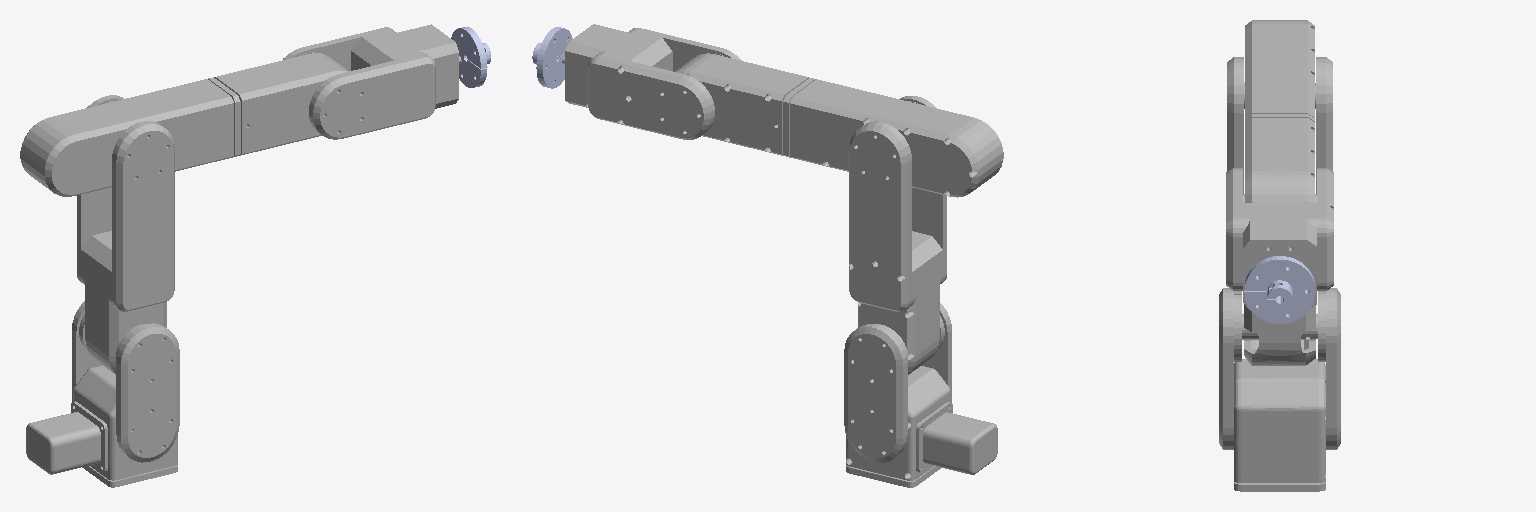
URDF robot description (thesis_arm):
<?xml version="1.0" encoding="utf-8"?>
<!-- This URDF was automatically created by SolidWorks to URDF Exporter! Originally created by [author] ([email redacted]) 
     Commit Version: 1.6.0-1-g15f4949  Build Version: 1.6.7594.29634
     For more information, please see http://wiki.ros.org/sw_urdf_exporter -->
<robot
  name="thesis_arm">
  <link
    name="Link_1">
    <visual>
      <origin
        xyz="0 0 0"
        rpy="0 0 0" />
      <geometry>
        <mesh
          filename="package://thesis_arm/meshes/Link_1.STL" />
      </geometry>
      <material
        name="">
        <color
          rgba="0.75294 0.75294 0.75294 1" />
      </material>
    </visual>
    <collision>
      <origin
        xyz="0 0 0"
        rpy="0 0 0" />
      <geometry>
        <mesh
          filename="package://thesis_arm/meshes/Link_1.STL" />
      </geometry>
    </collision>
  </link>
  <link
    name="Link_2">
    <visual>
      <origin
        xyz="0 0 0"
        rpy="0 0 0" />
      <geometry>
        <mesh
          filename="package://thesis_arm/meshes/Link_2.STL" />
      </geometry>
      <material
        name="">
        <color
          rgba="0.75294 0.75294 0.75294 1" />
      </material>
    </visual>
    <collision>
      <origin
        xyz="0 0 0"
        rpy="0 0 0" />
      <geometry>
        <mesh
          filename="package://thesis_arm/meshes/Link_2.STL" />
      </geometry>
    </collision>
  </link>
  <joint
    name="Joint_1"
    type="revolute">
    <origin
      xyz="0 0 0.1515"
      rpy="0 0 0" />
    <parent
      link="Link_1" />
    <child
      link="Link_2" />
    <axis
      xyz="0 0 1" />
    <limit
      lower="-2.79253"
      upper="2.79253"
      effort="255"
      velocity="0" />
  </joint>
  <link
    name="Link_3">
    <visual>
      <origin
        xyz="0 0 0"
        rpy="0 0 0" />
      <geometry>
        <mesh
          filename="package://thesis_arm/meshes/Link_3.STL" />
      </geometry>
      <material
        name="">
        <color
          rgba="0.75294 0.75294 0.75294 1" />
      </material>
    </visual>
    <collision>
      <origin
        xyz="0 0 0"
        rpy="0 0 0" />
      <geometry>
        <mesh
          filename="package://thesis_arm/meshes/Link_3.STL" />
      </geometry>
    </collision>
  </link>
  <joint
    name="Joint_2"
    type="revolute">
    <origin
      xyz="0 0 0.11202"
      rpy="1.5708 0 0" />
    <parent
      link="Link_2" />
    <child
      link="Link_3" />
    <axis
      xyz="0 0 -1" />
    <limit
      lower="-1.5708"
      upper="1.5708"
      effort="255"
      velocity="0" />
  </joint>
  <link
    name="Link_4">
    <visual>
      <origin
        xyz="0 0 0"
        rpy="0 0 0" />
      <geometry>
        <mesh
          filename="package://thesis_arm/meshes/Link_4.STL" />
      </geometry>
      <material
        name="">
        <color
          rgba="0.75294 0.75294 0.75294 1" />
      </material>
    </visual>
    <collision>
      <origin
        xyz="0 0 0"
        rpy="0 0 0" />
      <geometry>
        <mesh
          filename="package://thesis_arm/meshes/Link_4.STL" />
      </geometry>
    </collision>
  </link>
  <joint
    name="Joint_3"
    type="revolute">
    <origin
      xyz="0 0.178 0"
      rpy="-3.1416 0 -1.5708" />
    <parent
      link="Link_3" />
    <child
      link="Link_4" />
    <axis
      xyz="0 0 1" />
    <limit
      lower="-3.14159"
      upper="0.872665"
      effort="255"
      velocity="0" />
  </joint>
  <link
    name="Link_5">
    <visual>
      <origin
        xyz="0 0 0"
        rpy="0 0 0" />
      <geometry>
        <mesh
          filename="package://thesis_arm/meshes/Link_5.STL" />
      </geometry>
      <material
        name="">
        <color
          rgba="0.75294 0.75294 0.75294 1" />
      </material>
    </visual>
    <collision>
      <origin
        xyz="0 0 0"
        rpy="0 0 0" />
      <geometry>
        <mesh
          filename="package://thesis_arm/meshes/Link_5.STL" />
      </geometry>
    </collision>
  </link>
  <joint
    name="Joint_4"
    type="revolute">
    <origin
      xyz="0 -0.081 0"
      rpy="1.5708 -1.5708 0" />
    <parent
      link="Link_4" />
    <child
      link="Link_5" />
    <axis
      xyz="0 0 -1" />
    <limit
      lower="-3.14159"
      upper="3.14159"
      effort="255"
      velocity="0" />
  </joint>
  <link
    name="Link_6">
    <visual>
      <origin
        xyz="0 0 0"
        rpy="0 0 0" />
      <geometry>
        <mesh
          filename="package://thesis_arm/meshes/Link_6.STL" />
      </geometry>
      <material
        name="">
        <color
          rgba="0.75294 0.75294 0.75294 1" />
      </material>
    </visual>
    <collision>
      <origin
        xyz="0 0 0"
        rpy="0 0 0" />
      <geometry>
        <mesh
          filename="package://thesis_arm/meshes/Link_6.STL" />
      </geometry>
    </collision>
  </link>
  <joint
    name="Joint_5"
    type="revolute">
    <origin
      xyz="0 0 0.10259"
      rpy="1.5708 0 1.5708" />
    <parent
      link="Link_5" />
    <child
      link="Link_6" />
    <axis
      xyz="0 0 1" />
    <limit
      lower="-1.5708"
      upper="1.5708"
      effort="255"
      velocity="0" />
  </joint>
  <link
    name="Link_7">
    <visual>
      <origin
        xyz="0 0 0"
        rpy="0 0 0" />
      <geometry>
        <mesh
          filename="package://thesis_arm/meshes/Link_7.STL" />
      </geometry>
      <material
        name="">
        <color
          rgba="0.79216 0.81961 0.93333 1" />
      </material>
    </visual>
    <collision>
      <origin
        xyz="0 0 0"
        rpy="0 0 0" />
      <geometry>
        <mesh
          filename="package://thesis_arm/meshes/Link_7.STL" />
      </geometry>
    </collision>
  </link>
  <joint
    name="Joint_6"
    type="revolute">
    <origin
      xyz="0 0.1345 0"
      rpy="1.5708 -1.5708 0" />
    <parent
      link="Link_6" />
    <child
      link="Link_7" />
    <axis
      xyz="0 0 1" />
    <limit
      lower="-3.14159"
      upper="3.14159"
      effort="255"
      velocity="0" />
  </joint>
</robot>

--- What the picture shows (computed from the rendered views, not written in the file) ---
3 views of the same robot in one strip: view 1: azimuth 30°, elevation 25°; view 2: azimuth 150°, elevation 25°; view 3: azimuth 270°, elevation 25° (orthographic).
Model thesis_arm with 7 links and 6 joints (6 revolute), rooted at Link_1, posed every joint at zero.
Links seen in each view (by area): view 1: Link_3, Link_2, Link_4, Link_6, Link_5, Link_7; view 2: Link_3, Link_2, Link_4, Link_6, Link_5, Link_7; view 3: Link_2, Link_6, Link_3, Link_4, Link_5, Link_7.
Boxes of the visible links, x1,y1,x2,y2 form: Link_3: [77, 95, 174, 374]; Link_2: [26, 301, 179, 487]; Link_4: [20, 77, 240, 196]; Link_6: [283, 24, 461, 139]; Link_5: [214, 53, 348, 155]; Link_7: [451, 27, 490, 87]; Link_3: [849, 96, 946, 374]; Link_2: [844, 303, 997, 487]; Link_4: [783, 78, 1003, 197]; Link_6: [562, 24, 741, 139]; Link_5: [675, 53, 808, 155]; Link_7: [532, 27, 572, 88]; Link_2: [1219, 288, 1340, 491]; Link_6: [1226, 168, 1333, 310]; Link_3: [1227, 57, 1332, 365]; Link_4: [1245, 20, 1314, 121]; Link_5: [1245, 118, 1314, 202]; Link_7: [1244, 256, 1315, 323].
Bounding box of the posed robot: 0.4244 × 0.085 × 0.3175 m (x, y, z).
Meshes: 7 distinct files referenced, 6 mesh visuals loaded (6 binary STL); not drawn: 1 (reference not matched to a file when rendering).